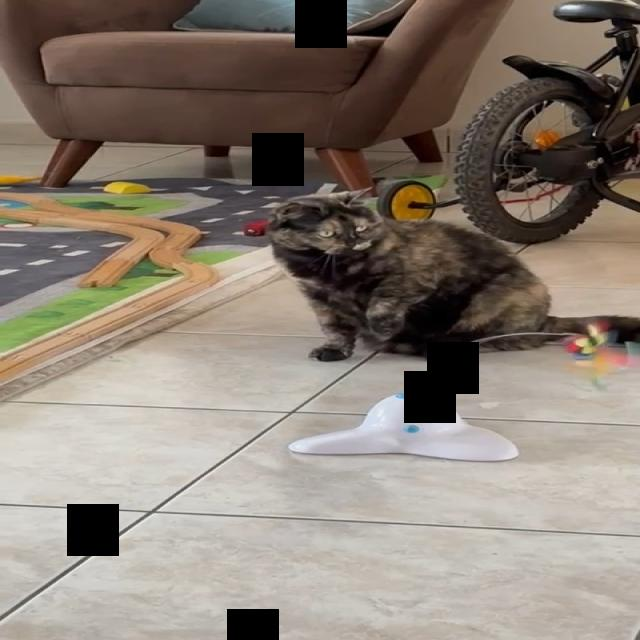authorized: (261, 186, 639, 362)
